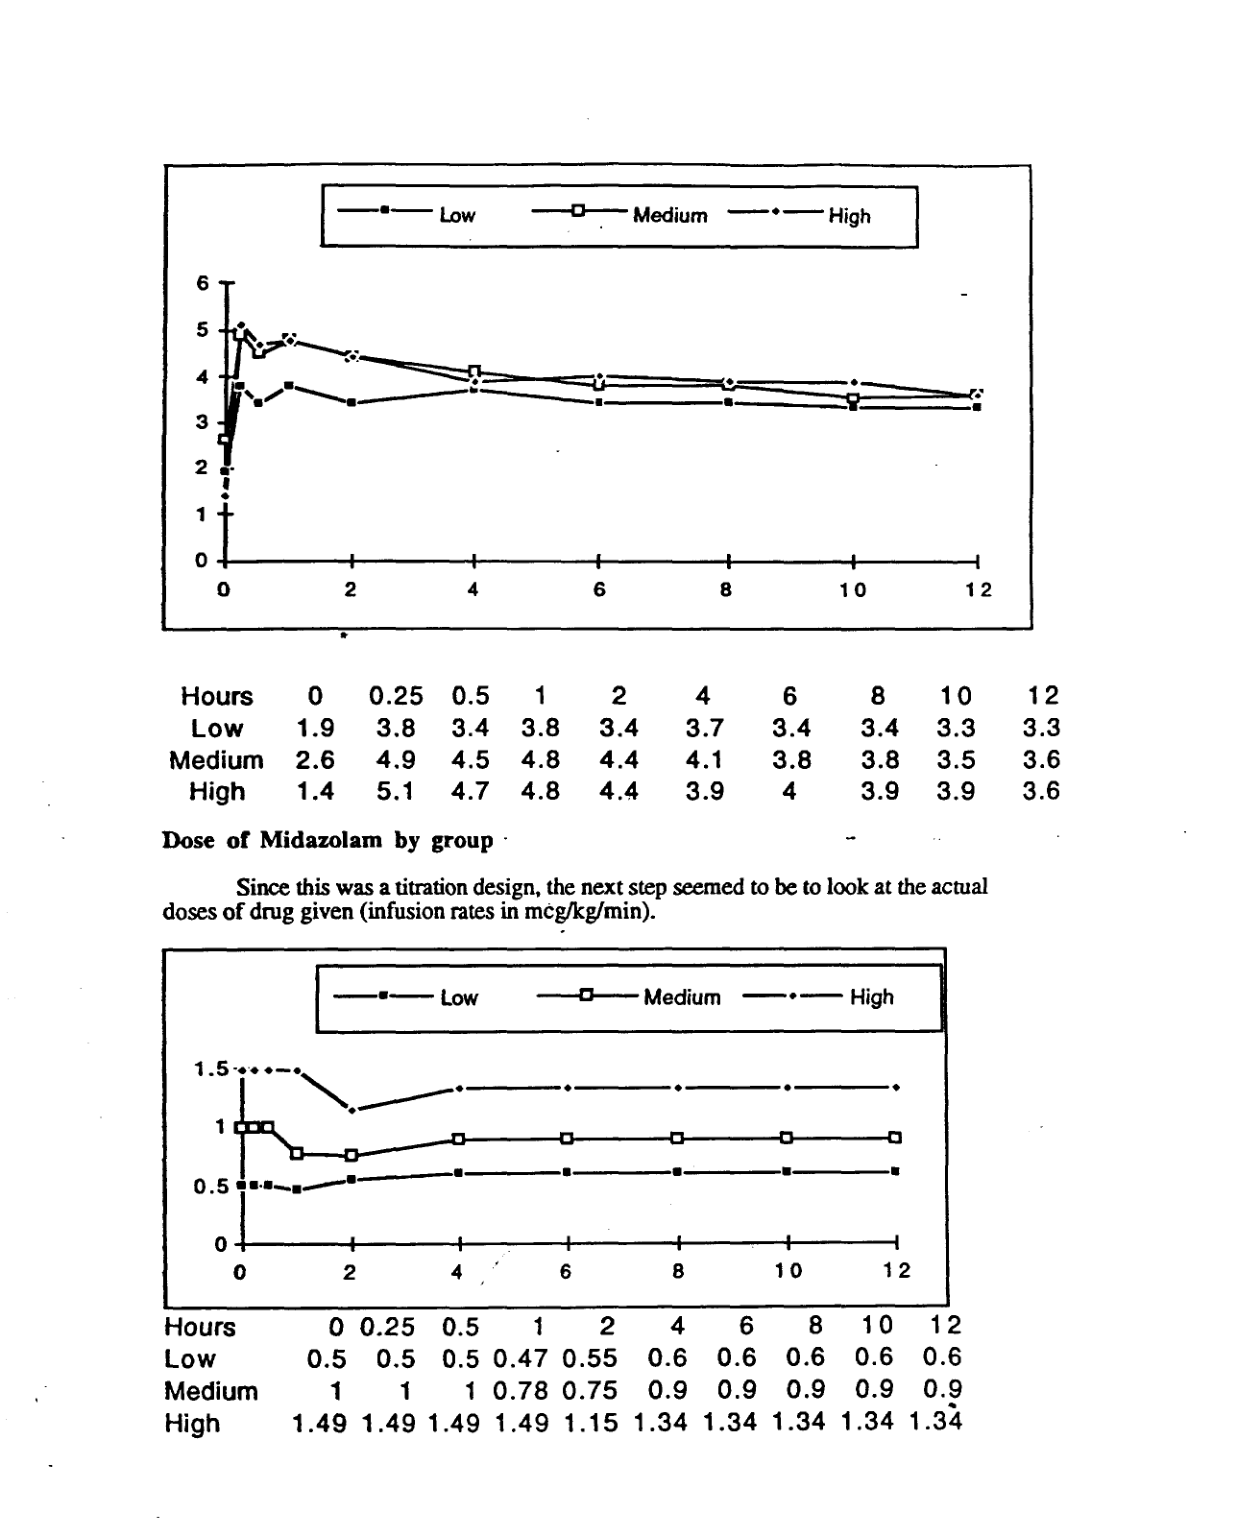nolines: (168, 681, 1062, 805), (158, 1312, 966, 1441)
